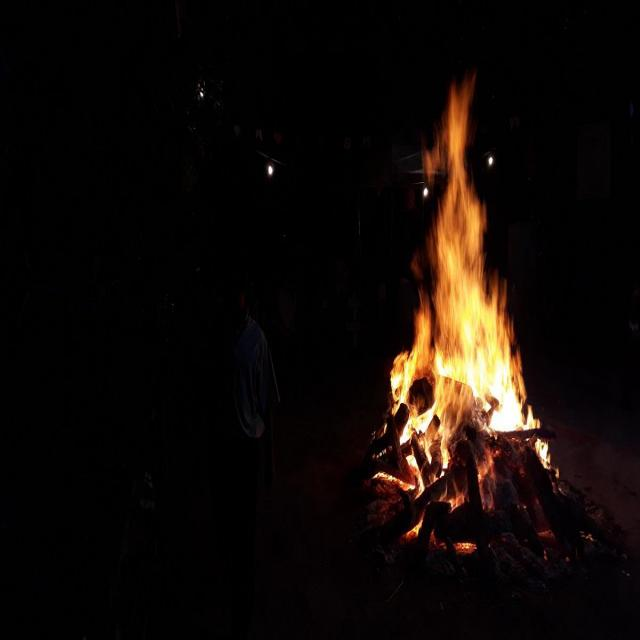fire: (388, 73, 557, 475)
